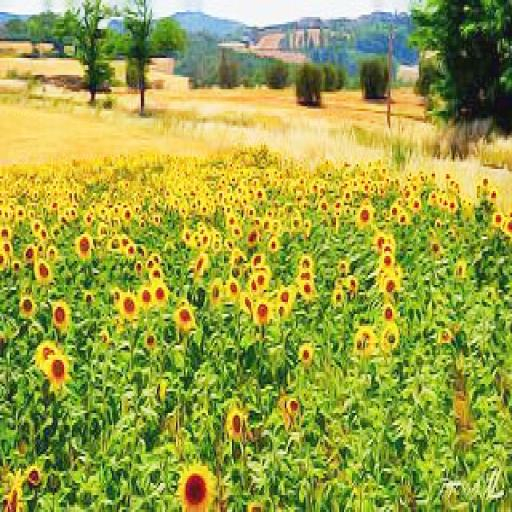sunflower: (178, 459, 214, 512), (35, 340, 59, 372), (48, 352, 69, 388), (226, 404, 244, 440), (118, 290, 138, 319), (356, 326, 374, 355), (75, 229, 91, 261), (253, 300, 272, 326), (174, 302, 194, 326), (381, 326, 400, 350), (382, 276, 400, 300), (299, 278, 317, 302), (298, 338, 314, 365), (210, 273, 226, 299), (19, 295, 35, 321), (53, 302, 69, 328), (37, 256, 51, 285), (22, 242, 37, 268), (226, 278, 242, 302), (154, 282, 170, 306), (195, 224, 210, 248), (26, 464, 42, 485), (382, 302, 396, 324), (107, 234, 122, 254), (253, 271, 267, 292), (149, 263, 163, 283), (139, 288, 152, 309), (490, 208, 504, 227), (355, 208, 370, 224), (246, 230, 261, 246), (346, 278, 360, 292), (16, 205, 26, 220)
